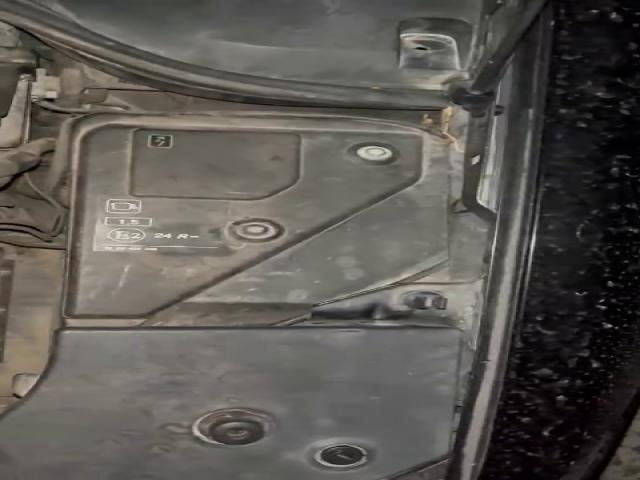fuse_box: (70, 122, 438, 319)
